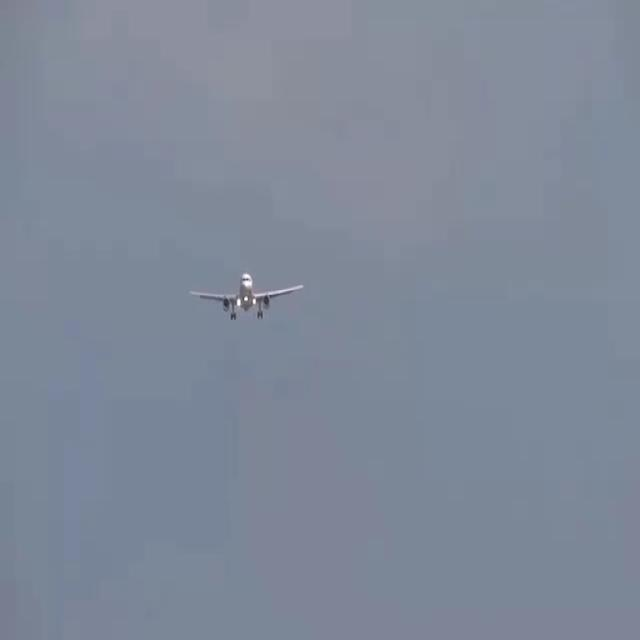AirPlane: (180, 258, 316, 333)
